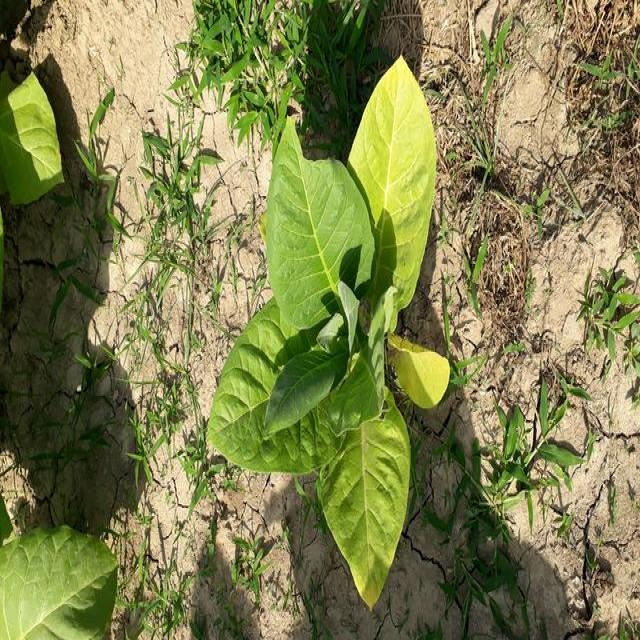crop: (226, 58, 462, 599)
